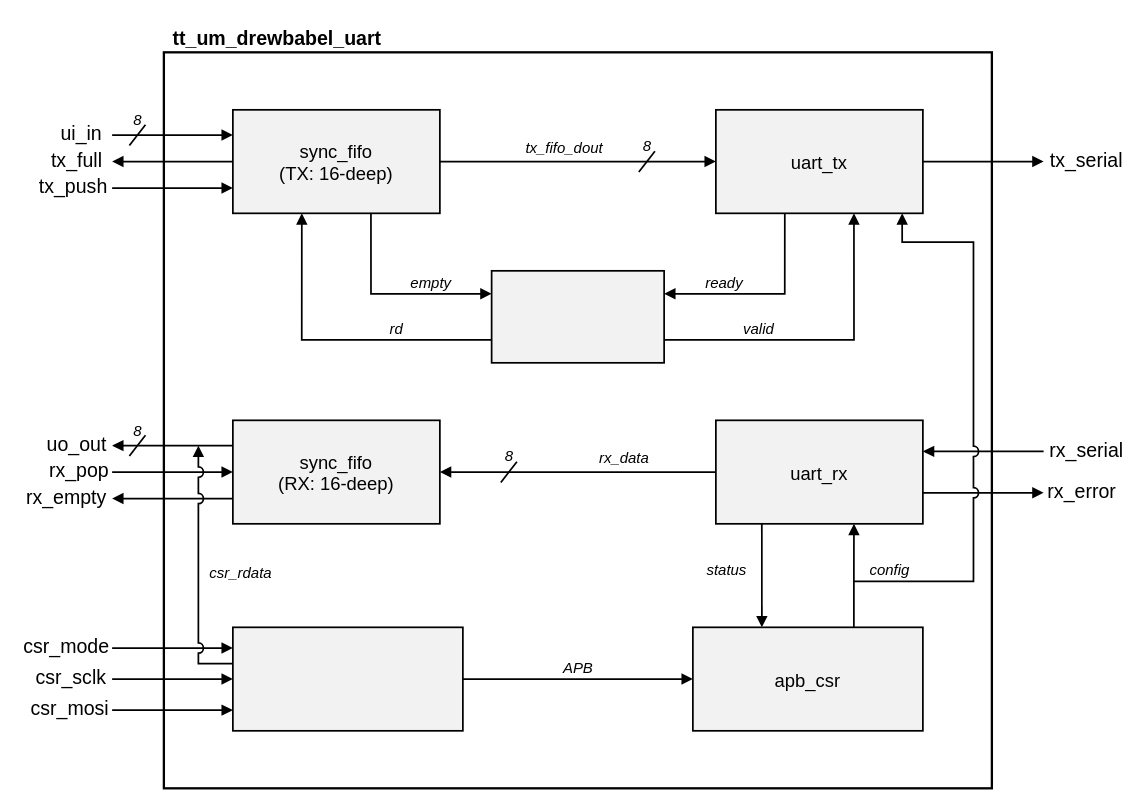
Some shapes in this 1148 by 808 pixel diagram are drawn without their labels. Each missing label, with the centre of its shape:
csr_pin_adapter: (x=347, y=678)
loader FSM: (x=577, y=316)
